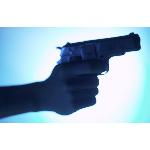Pistol: (55, 32, 141, 78)
